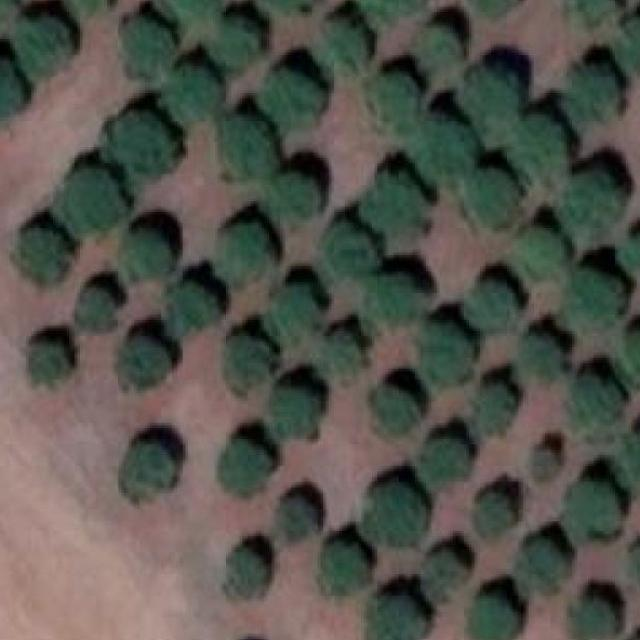Tree: (113, 112, 175, 180), (352, 171, 418, 233), (369, 480, 428, 548), (423, 320, 480, 390), (569, 374, 626, 444), (57, 167, 115, 234), (414, 118, 471, 186), (556, 480, 620, 539), (264, 69, 328, 127), (226, 117, 285, 179), (365, 68, 423, 131), (565, 169, 623, 228), (120, 17, 177, 77), (563, 269, 626, 323), (561, 63, 615, 125), (466, 71, 523, 129), (266, 285, 323, 343), (21, 222, 69, 288), (322, 228, 380, 282), (124, 442, 178, 500), (466, 166, 518, 226), (14, 18, 71, 72), (120, 222, 177, 276), (514, 118, 566, 177), (168, 66, 220, 123), (372, 274, 426, 328), (221, 217, 269, 277), (269, 388, 318, 446), (168, 280, 220, 334), (469, 276, 523, 328), (518, 331, 570, 383), (118, 336, 170, 385), (220, 442, 272, 491), (518, 542, 566, 594), (228, 336, 275, 388), (324, 17, 366, 75), (274, 176, 320, 228), (377, 595, 429, 640), (474, 590, 520, 640), (317, 542, 363, 590), (315, 331, 361, 379), (567, 595, 616, 640), (74, 285, 120, 332), (25, 339, 71, 386), (426, 439, 469, 485), (418, 23, 460, 69), (212, 21, 253, 67), (520, 226, 563, 269), (428, 550, 469, 594), (228, 550, 266, 597), (477, 385, 518, 428), (277, 495, 320, 536), (382, 385, 420, 431), (472, 491, 509, 537), (0, 61, 24, 122), (617, 430, 640, 493), (617, 18, 640, 72), (363, 0, 418, 21), (568, 0, 620, 21), (529, 448, 559, 480), (470, 0, 521, 14), (172, 0, 220, 14), (626, 329, 640, 377), (72, 0, 115, 12), (628, 544, 640, 585), (626, 237, 640, 272), (264, 0, 312, 10), (0, 0, 24, 19)
